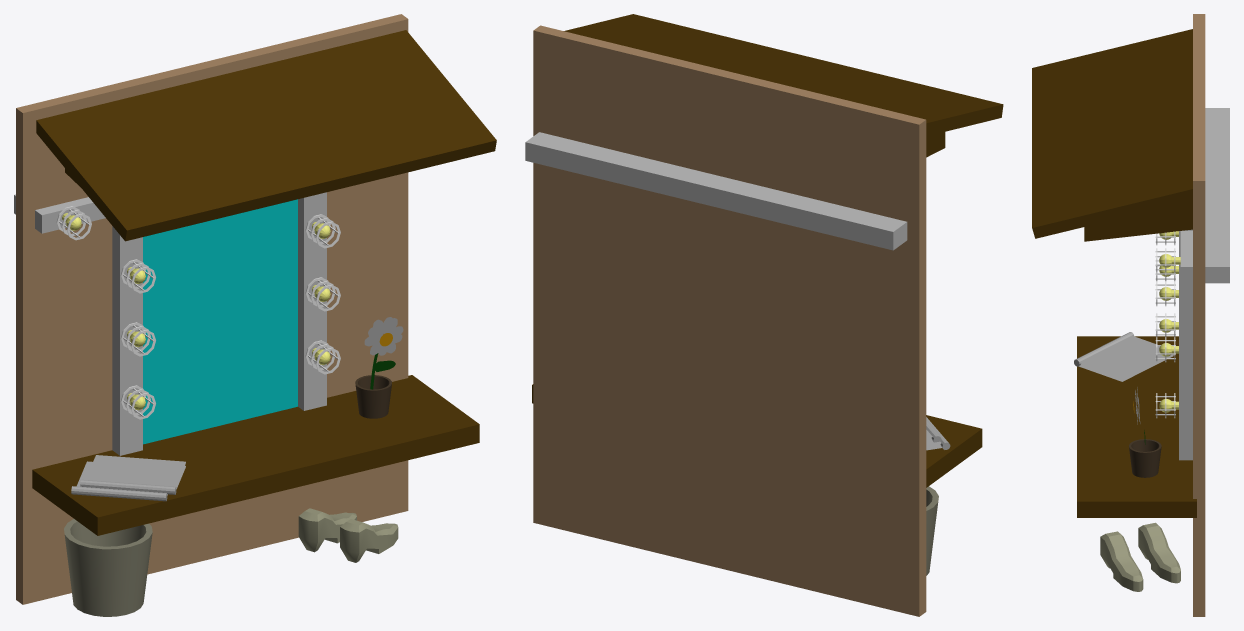
The model's file is OutfitRoom (1).fbx.
The picture shows the model from 3 angles, left to right: view 1: azimuth 30°, elevation 25°; view 2: azimuth 150°, elevation 25°; view 3: azimuth 270°, elevation 25°; orthographic projection. The views are drawn at different scales.
Visible parts, largest first — view 1: pCylinder10; view 2: pCylinder10; view 3: pCylinder10.
Boxes of the visible parts, left/top/right/bottom form: pCylinder10: left=14, top=14, right=496, bottom=616; pCylinder10: left=525, top=14, right=1003, bottom=616; pCylinder10: left=1032, top=14, right=1229, bottom=616.
Size of the model in its own units: 325 by 390 by 160.
